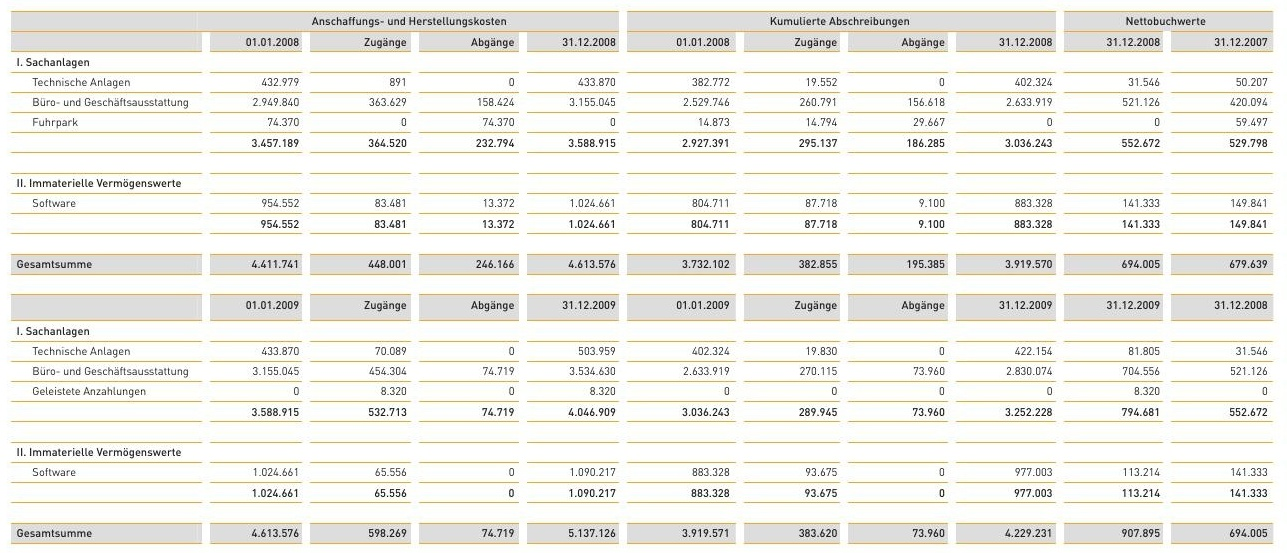table: (0, 0, 1287, 553)
